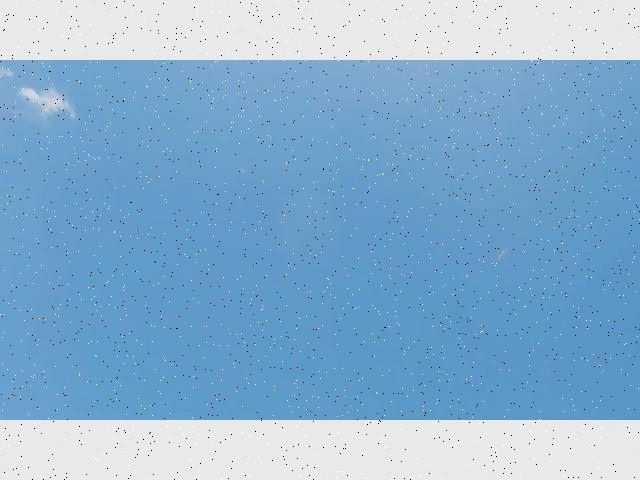Anti-Drone: (494, 241, 518, 269)
